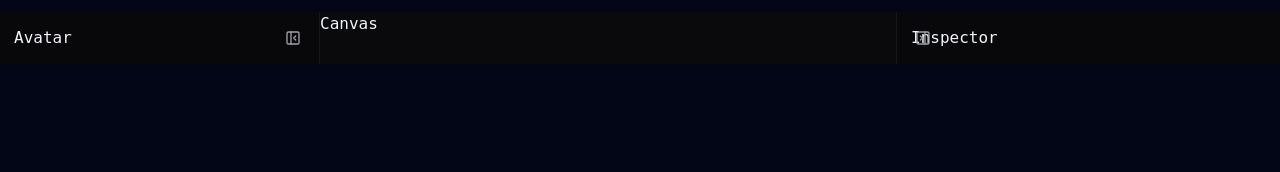
Test: SplitScreenLayout Component › should collapse and re-expand left co-pilot panel
Note: Click collapse left panel button
What coordinates should you click on to do the following:
click the button with test id "collapse-left-panel-btn"
I would click on:
 (293, 38)
Its box is left=279, top=24, right=307, bottom=52.
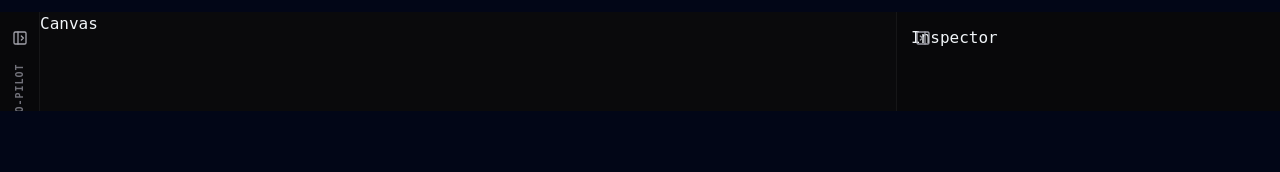
Result: the element with test id "left-avatar-panel" is gone
Result: the button with test id "expand-left-panel-btn" is shown
Note: Click expand left panel button
What coordinates should you click on to do the following:
click the button with test id "expand-left-panel-btn"
I would click on:
 (20, 38)
Its box is left=6, top=24, right=34, bottom=52.
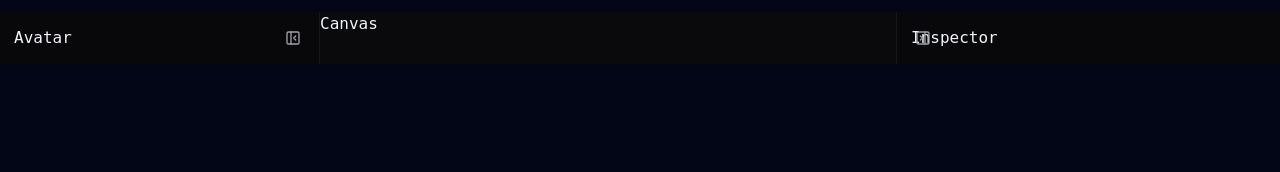
Result: the element with test id "left-avatar-panel" is shown at left=0, top=12, right=320, bottom=64
